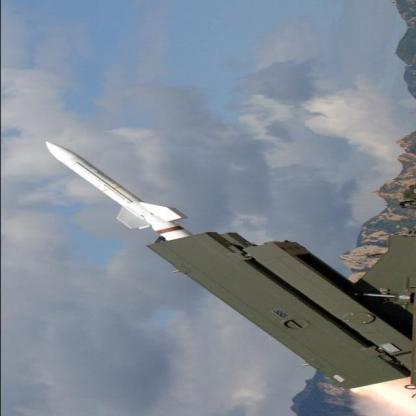MIL_TBM: (34, 136, 195, 241)
